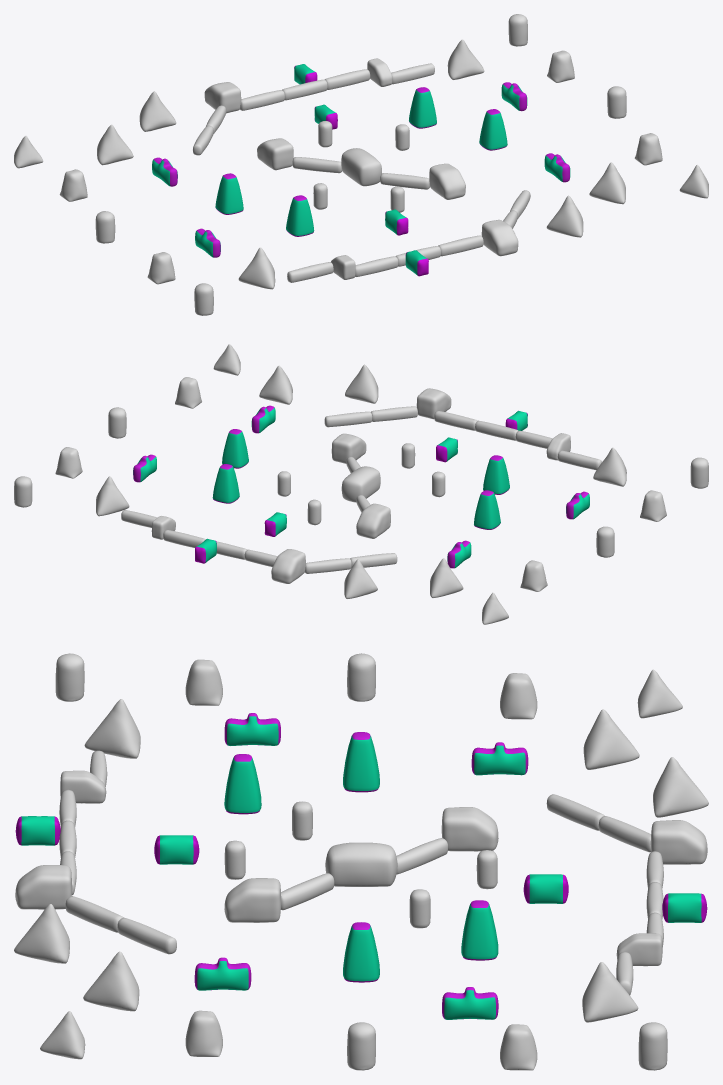
Rendered from 2024_NXL_Las Vegas Major.fbx.
The picture shows the model from 3 angles, top to bottom: view 1: azimuth 30°, elevation 25°; view 2: azimuth 150°, elevation 25°; view 3: azimuth 270°, elevation 25°; orthographic projection. The views are drawn at different scales.
Visible parts, largest first — view 1: Wing_L.003; view 2: Wing_L.003; view 3: Wing_L.003.
Boxes of the visible parts, box(x1,y1,x2,y2) form: Wing_L.003: box(14, 14, 708, 315); Wing_L.003: box(14, 344, 708, 624); Wing_L.003: box(14, 653, 708, 1070).
Size of the model in its own units: 3967 by 254 by 3059.
